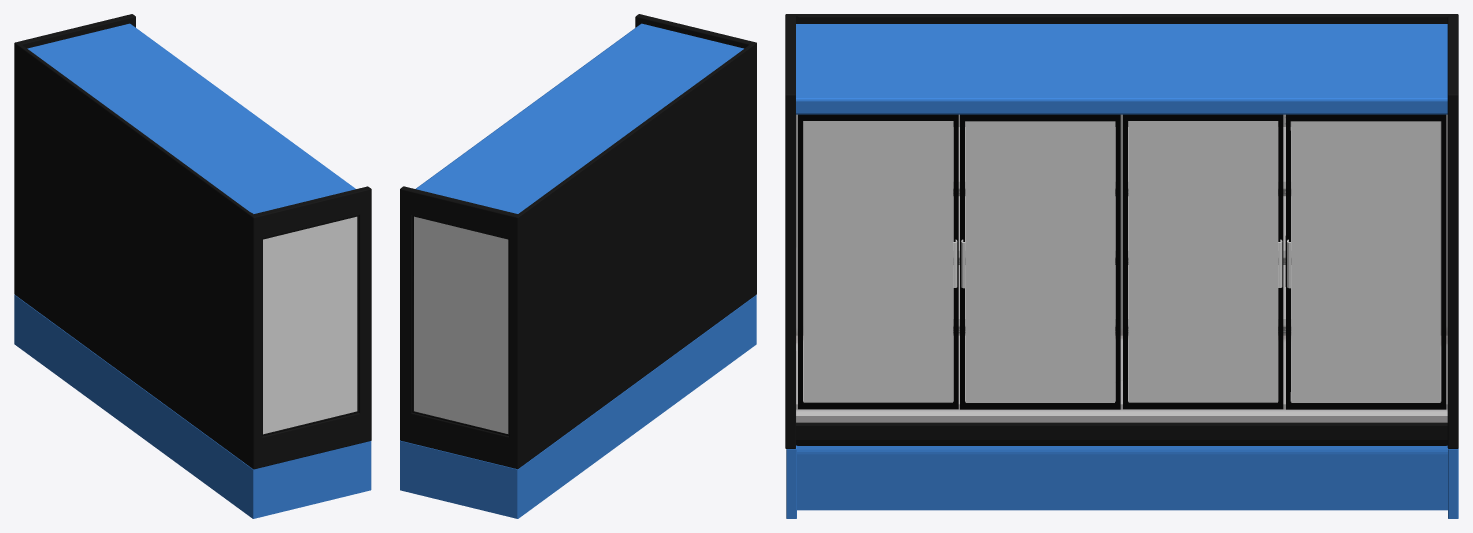
The model's file is RefrigeratedShelf.fbx.
3 renders of one model, left to right at view 1: azimuth 30°, elevation 25°; view 2: azimuth 150°, elevation 25°; view 3: azimuth 270°, elevation 25°, orthographic. The views are drawn at different scales.
Visible parts, largest first — view 1: tall.003, glass.00, socle.001, joint001; view 2: tall.003, glass.001, socle.001, joint001; view 3: tall.003, socle.001, PORTE D01, PORTE D02, PORTE G01, glass.003, cadrebd.003, cadrebd.002, cadrebd, cadrebd.001.
Part boxes in pixels (x1,y1,x2,y2): tall.003: [14, 14, 371, 469]; glass.00: [263, 216, 357, 434]; socle.001: [14, 294, 371, 518]; joint001: [262, 215, 358, 436]; tall.003: [400, 14, 756, 469]; glass.001: [414, 216, 508, 433]; socle.001: [400, 295, 756, 518]; joint001: [412, 215, 508, 435]; tall.003: [785, 14, 1458, 448]; socle.001: [786, 445, 1458, 518]; PORTE D01: [965, 121, 1114, 402]; PORTE D02: [1291, 121, 1440, 402]; PORTE G01: [803, 121, 952, 402]; glass.003: [1128, 121, 1277, 402]; cadrebd.003: [1285, 114, 1446, 409]; cadrebd.002: [960, 114, 1120, 409]; cadrebd: [798, 114, 958, 409]; cadrebd.001: [1123, 114, 1283, 409].
Bounding box in the file's own units: 3.11 × 0.8892 × 2.16.
